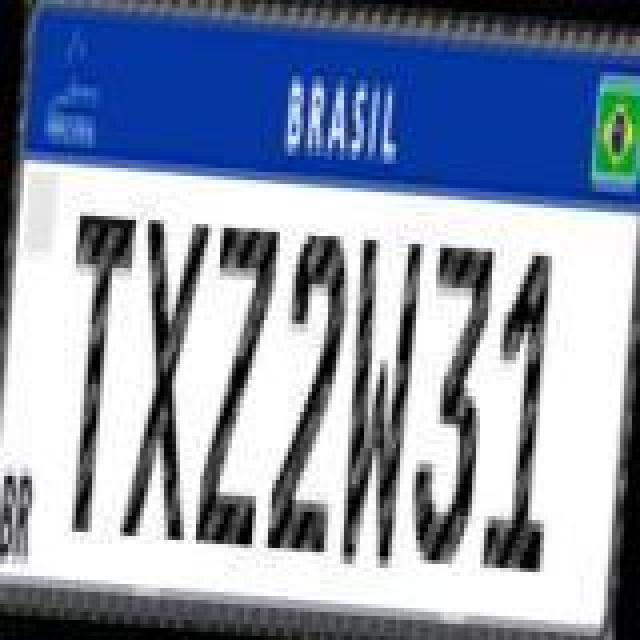1: (480, 246, 576, 578)
2: (266, 226, 358, 558)
3: (400, 240, 496, 576)
T: (50, 208, 142, 544)
W: (332, 234, 428, 574)
X: (122, 212, 214, 548)
Z: (196, 226, 284, 558)
